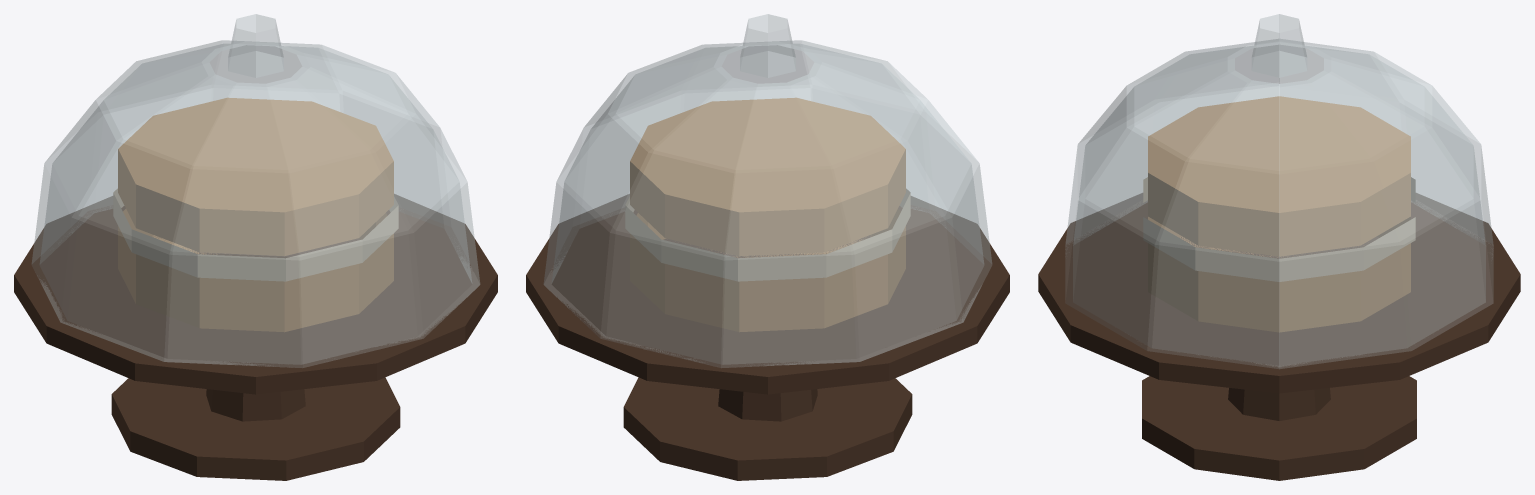
Rendered from FN_Stand_Cake.glb.
3 renders of one model, left to right at view 1: azimuth 30°, elevation 25°; view 2: azimuth 150°, elevation 25°; view 3: azimuth 270°, elevation 25°, orthographic.
Visible parts, largest first — view 1: FN_Stand_Cake; view 2: FN_Stand_Cake; view 3: FN_Stand_Cake.
Part boxes in pixels (bbox=[...]): FN_Stand_Cake: bbox=[14, 14, 497, 480]; FN_Stand_Cake: bbox=[526, 14, 1009, 480]; FN_Stand_Cake: bbox=[1038, 14, 1520, 480].
Size of the model in its own units: 0.3 by 0.272 by 0.3.
2 materials, 1 textured.
